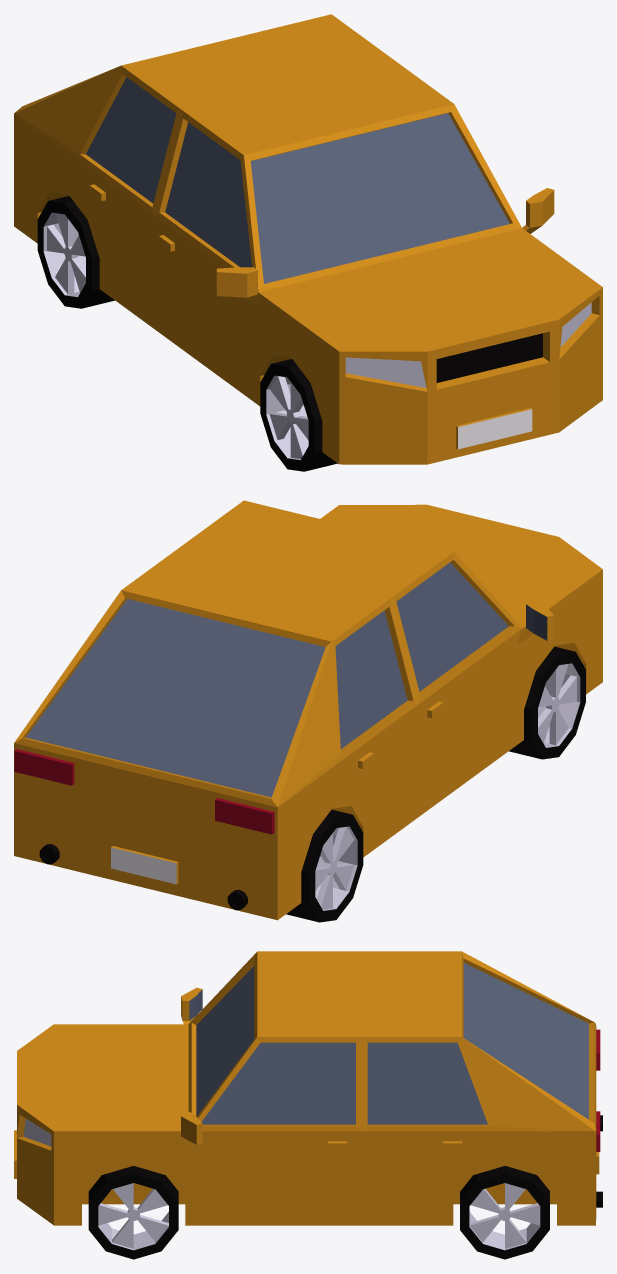
Rendered from Hatchback.gltf.
3 renders of one model, top to bottom at view 1: azimuth 30°, elevation 25°; view 2: azimuth 150°, elevation 25°; view 3: azimuth 270°, elevation 25°, orthographic. The views are drawn at different scales.
Visible parts, largest first — view 1: Hatchback, Hatchback wheel front right, Hatchback wheel rear right; view 2: Hatchback, Hatchback wheel rear right, Hatchback wheel front right; view 3: Hatchback, Hatchback wheel front left, Hatchback wheel rear left.
Part boxes in pixels (x1,y1,x2,y2): Hatchback: (14, 14, 602, 464); Hatchback wheel front right: (260, 359, 337, 471); Hatchback wheel rear right: (37, 196, 114, 308); Hatchback: (14, 500, 602, 920); Hatchback wheel rear right: (286, 809, 363, 922); Hatchback wheel front right: (509, 646, 585, 759); Hatchback: (14, 951, 602, 1225); Hatchback wheel front left: (88, 1166, 178, 1259); Hatchback wheel rear left: (460, 1166, 549, 1259).
Size of the model in its own units: 2.81 by 2.01 by 5.11.
